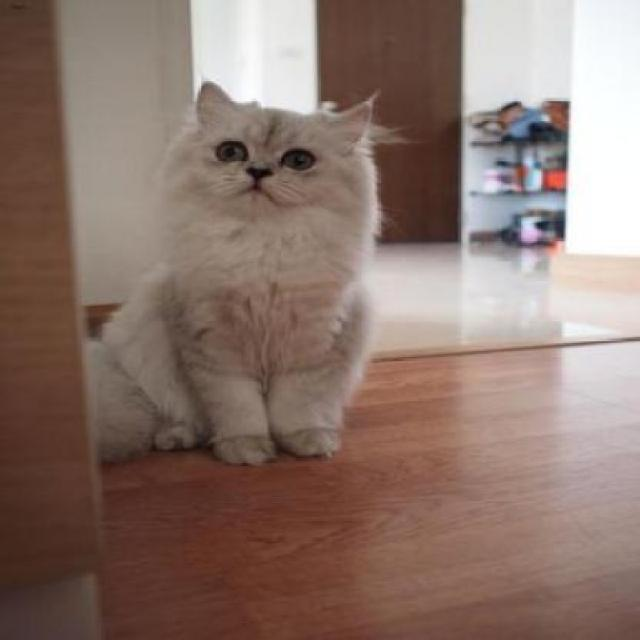cat: (80, 80, 377, 462)
